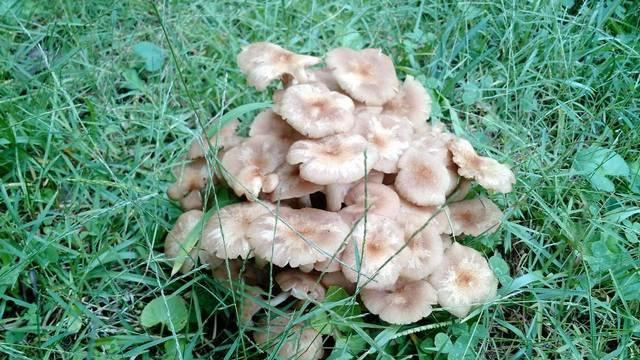edible_mushroom: (163, 40, 515, 358)
